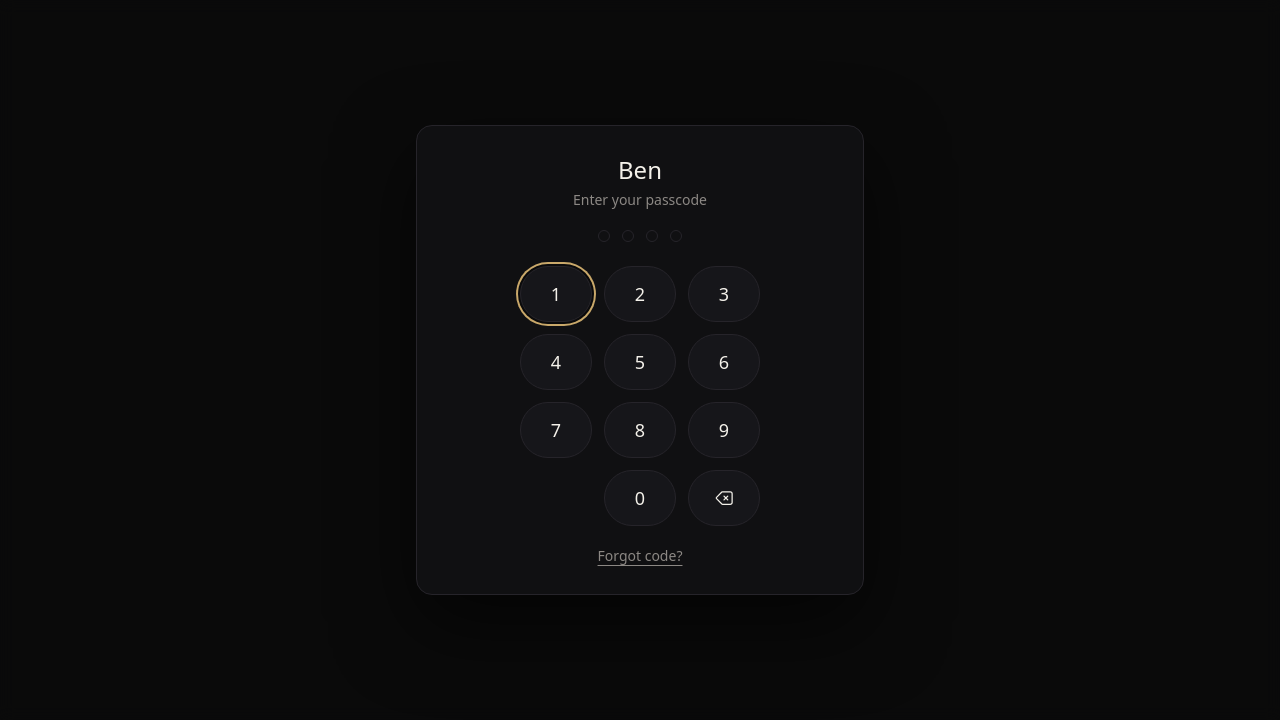
Test: PasscodePrompt › owner: a 403 says "Incorrect password" and does not reset
Click the button "Forgot code?" at (640, 556), box [598,546,682,566]
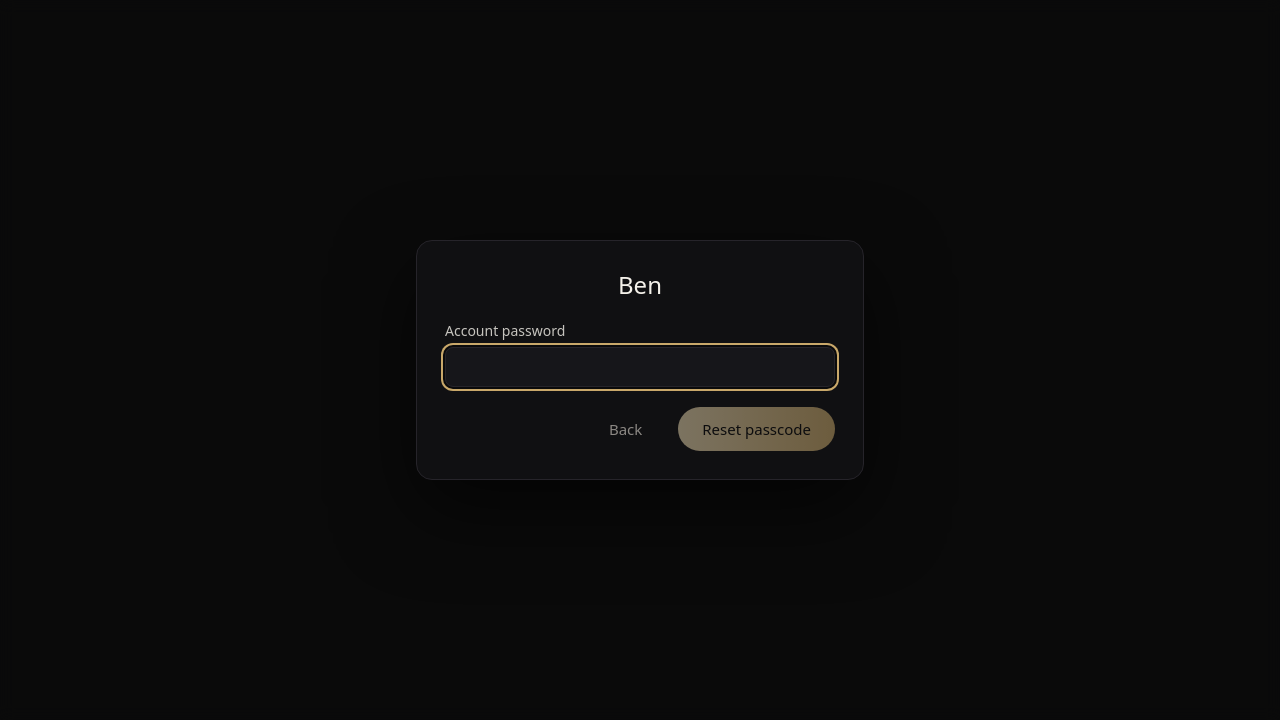
Type "hunter22" into the password field labelled "Account password" at (640, 367), box [445,347,835,387]
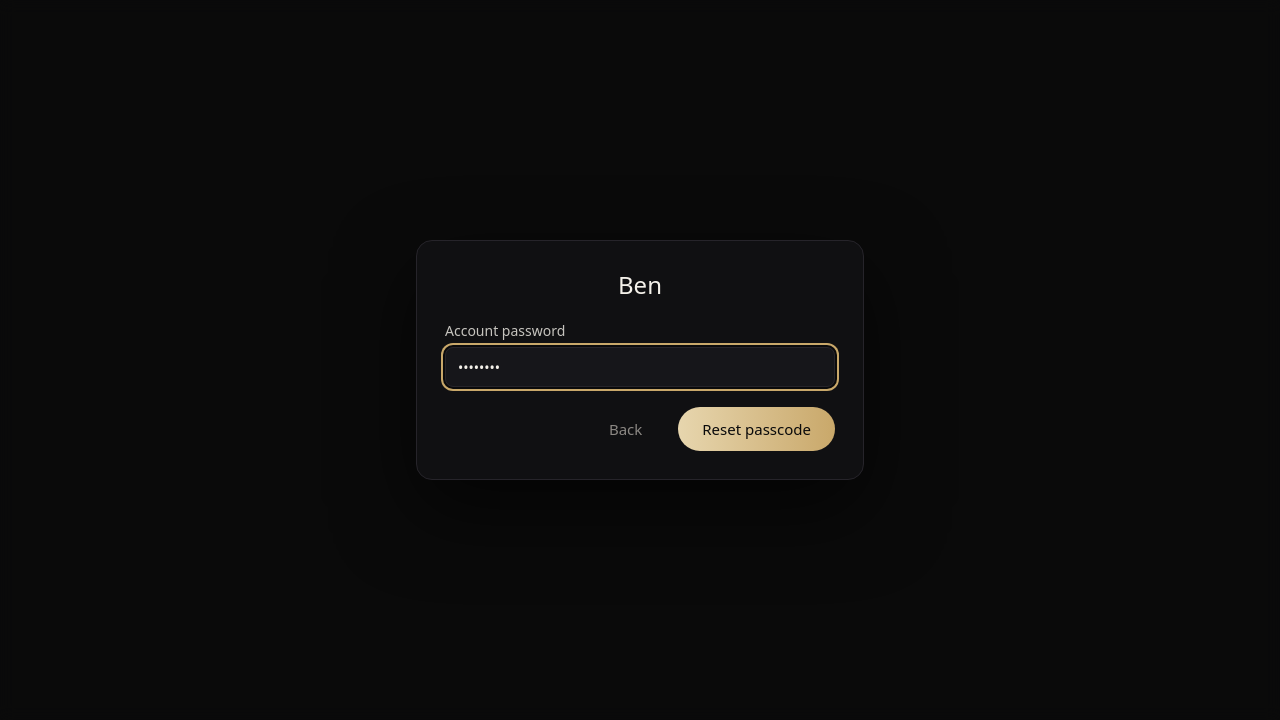
Click the button "Reset passcode" at (757, 429), box [678,407,835,451]
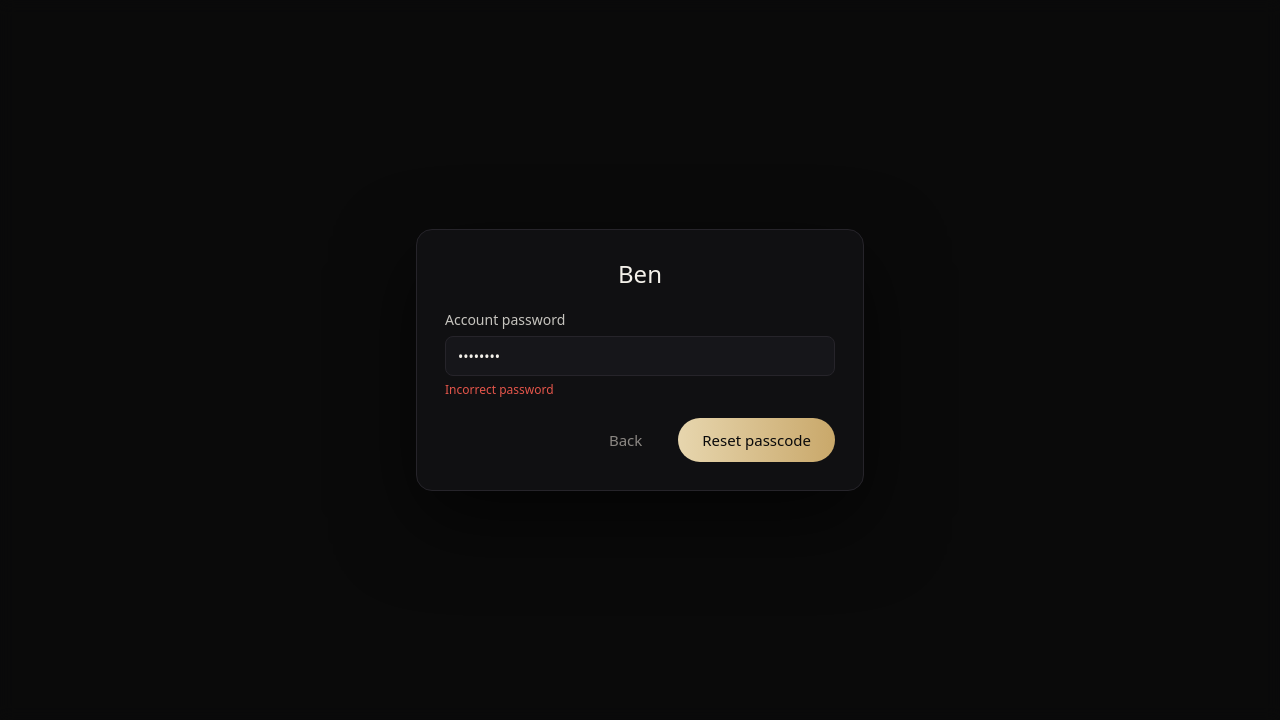
Check: the message reads "Incorrect password", box [445,381,554,398]
